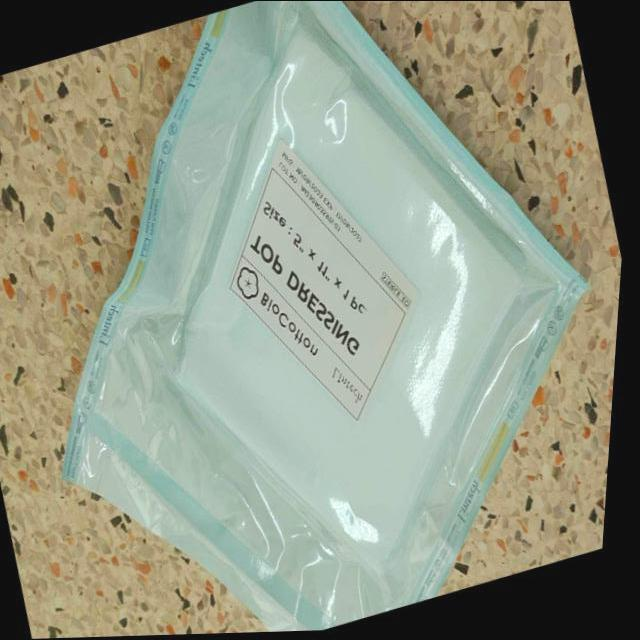General: (59, 0, 592, 631)
